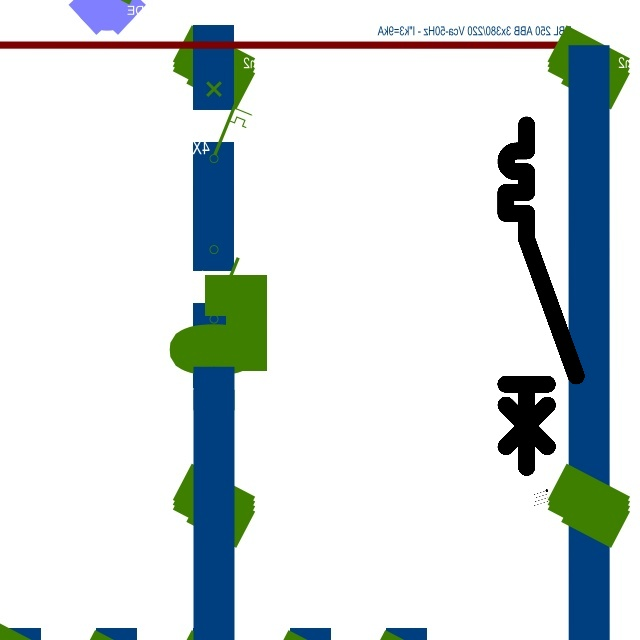interruptor_termomagnetico: (497, 116, 585, 476)
